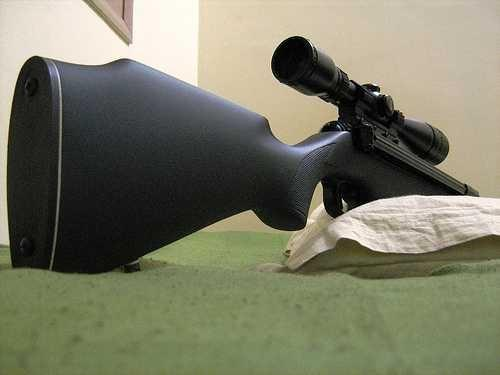heavyweapon: (12, 21, 484, 276)
